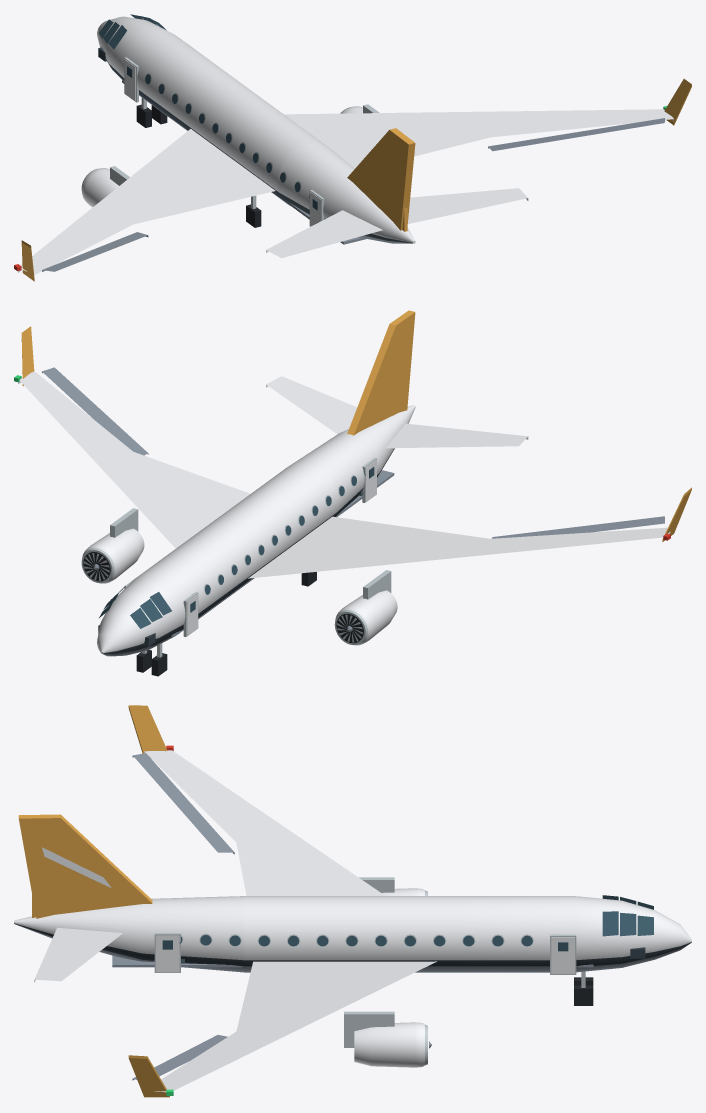
File: kestrel.glb
3 renders of one model, top to bottom at view 1: azimuth 30°, elevation 25°; view 2: azimuth 150°, elevation 25°; view 3: azimuth 270°, elevation 25°, orthographic. The views are drawn at different scales.
Visible parts, largest first — view 1: wing_l, wing_r, body_mid, body_front, body_aft, elevator, tail, engine_l, aileron_r, doors, gear, cabin_windows (+2 smaller); view 2: wing_l, wing_r, body_front, body_mid, elevator, body_aft, tail, engine_r, engine_l, aileron_r, doors, aileron_l (+3 smaller); view 3: body_mid, body_front, wing_r, wing_l, body_aft, tail, engine_r, elevator, doors, cabin_windows, aileron_l, windshield (+4 smaller).
Part boxes in pixels (x1,y1,x2,y2): wing_l: (14, 129, 275, 281); wing_r: (284, 79, 691, 168); body_mid: (178, 69, 325, 202); body_front: (97, 16, 227, 128); body_aft: (278, 143, 415, 243); elevator: (266, 188, 528, 258); tail: (347, 128, 415, 230); engine_l: (81, 166, 129, 207); aileron_r: (488, 118, 665, 151); doors: (124, 57, 324, 226); gear: (136, 98, 261, 227); cabin_windows: (136, 64, 309, 198); wing_l: (248, 487, 691, 578); wing_r: (14, 326, 250, 548); body_front: (97, 536, 238, 656); body_mid: (190, 462, 338, 595); elevator: (266, 376, 528, 448); body_aft: (291, 405, 415, 516); tail: (347, 310, 415, 435); engine_r: (81, 508, 144, 583); engine_l: (334, 570, 397, 645); aileron_r: (42, 367, 148, 455); doors: (124, 458, 376, 636); aileron_l: (492, 516, 664, 538); body_mid: (244, 896, 461, 972); body_front: (461, 896, 691, 972); wing_r: (128, 961, 436, 1097); wing_l: (128, 705, 385, 895); body_aft: (14, 896, 244, 972); tail: (18, 814, 152, 918); engine_r: (344, 1011, 431, 1067); elevator: (34, 927, 122, 982); doors: (154, 933, 576, 974); cabin_windows: (179, 933, 556, 946); aileron_l: (132, 753, 234, 854); windshield: (602, 895, 653, 936).
Bounding box in the file's own units: 24.48 × 5.99 × 20.
